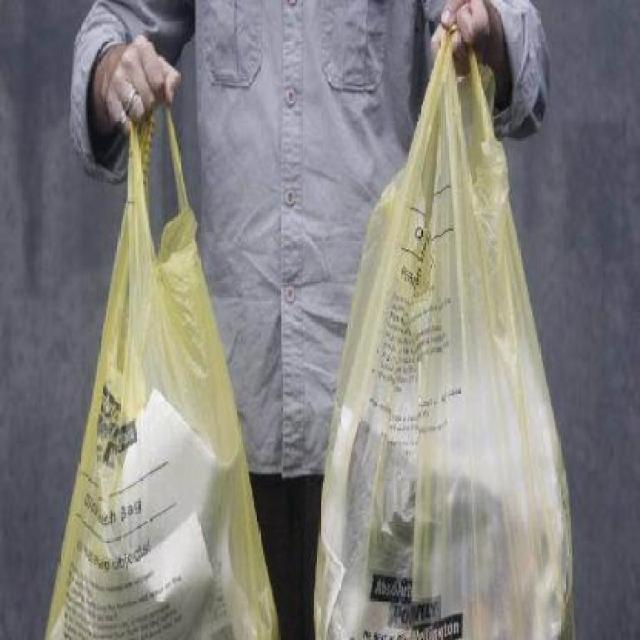plastic bag: (314, 36, 581, 638), (42, 94, 280, 638)
